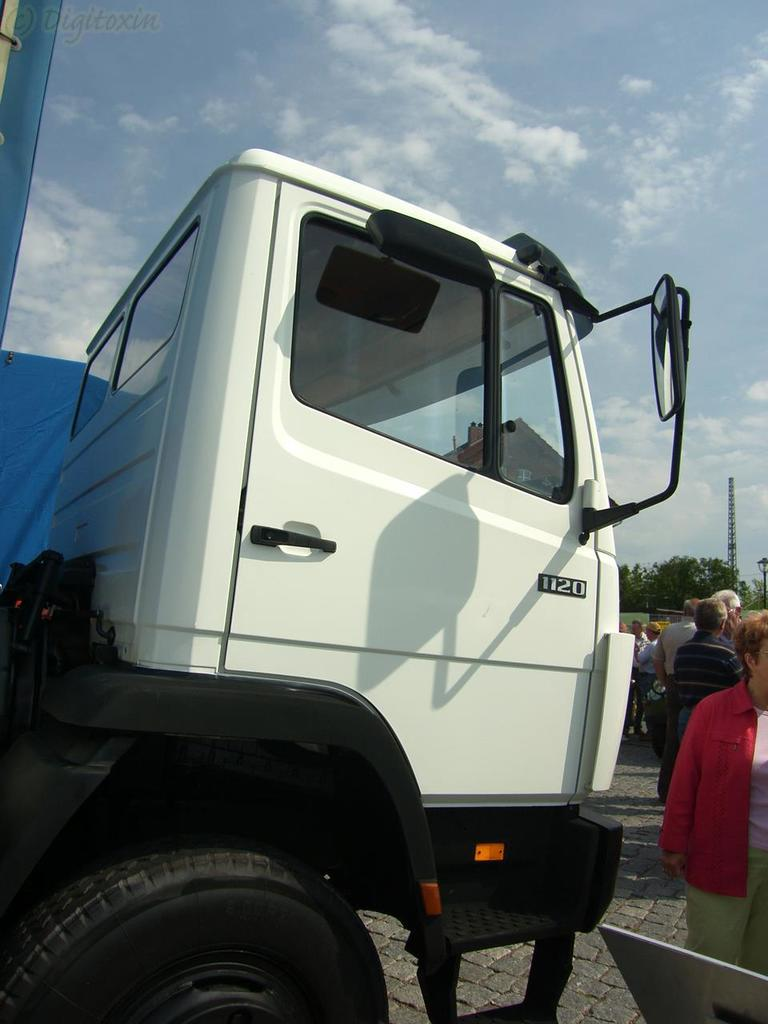Car: (642, 679, 668, 757)
